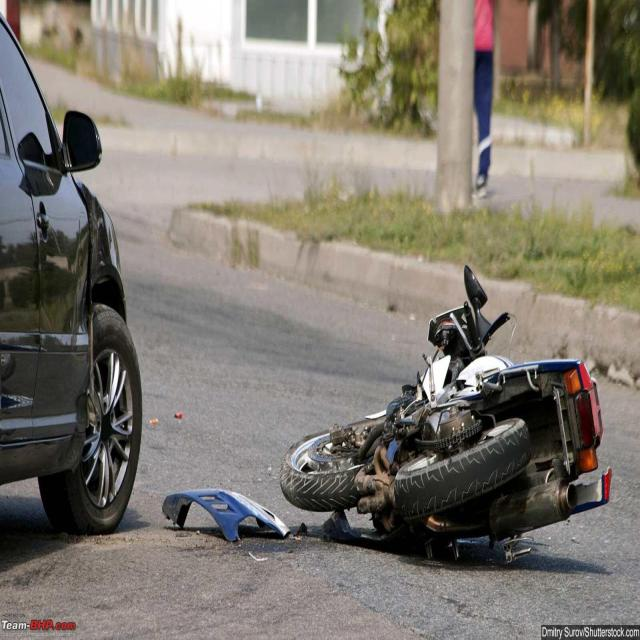accident: (281, 267, 611, 553)
